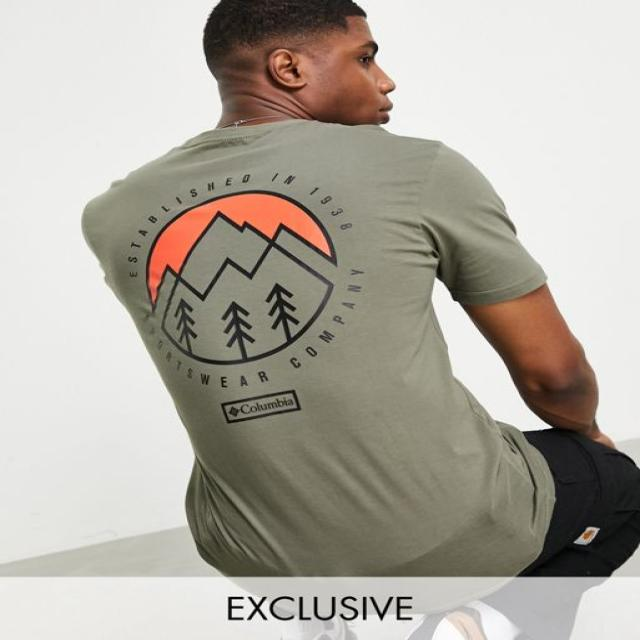tshirt: (86, 121, 555, 573)
